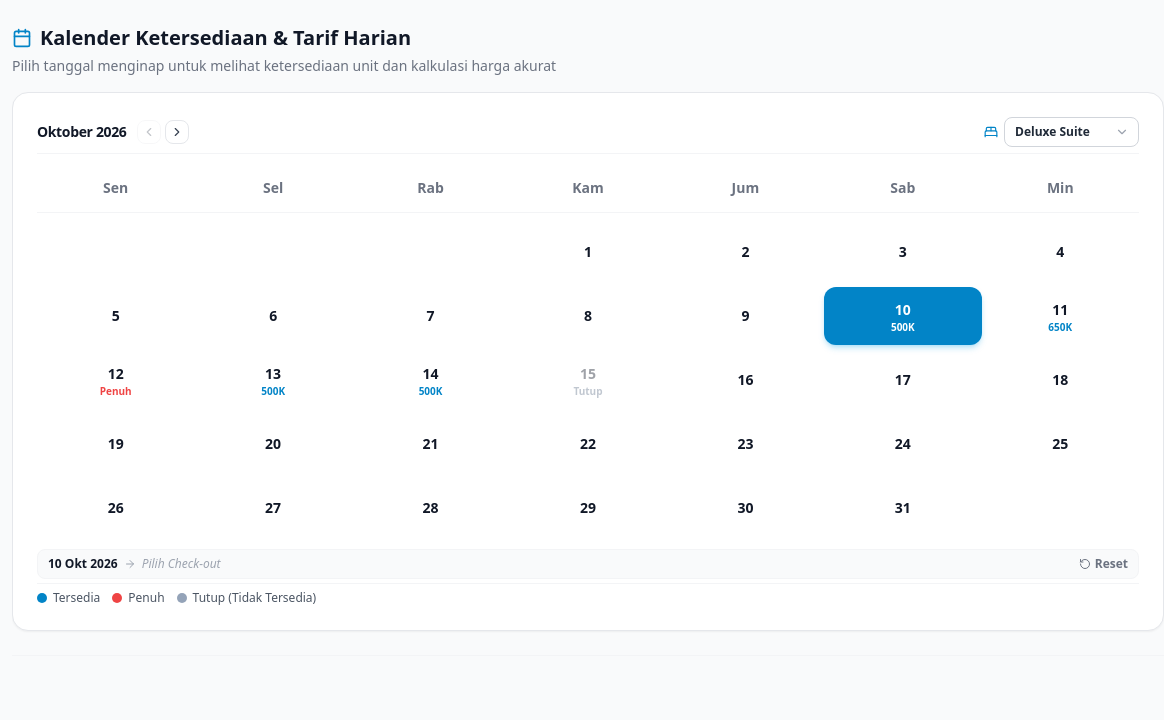
Test case: InteractivePriceCalendar Component › displays warning when selecting range that includes Sold Out dates (AC-004)
This screenshot has width=1164, height=720.
expect the text "Penuh" is shown: met, box [37,351,194,409]
Click the text "14": (430, 380) [352,351,509,409]
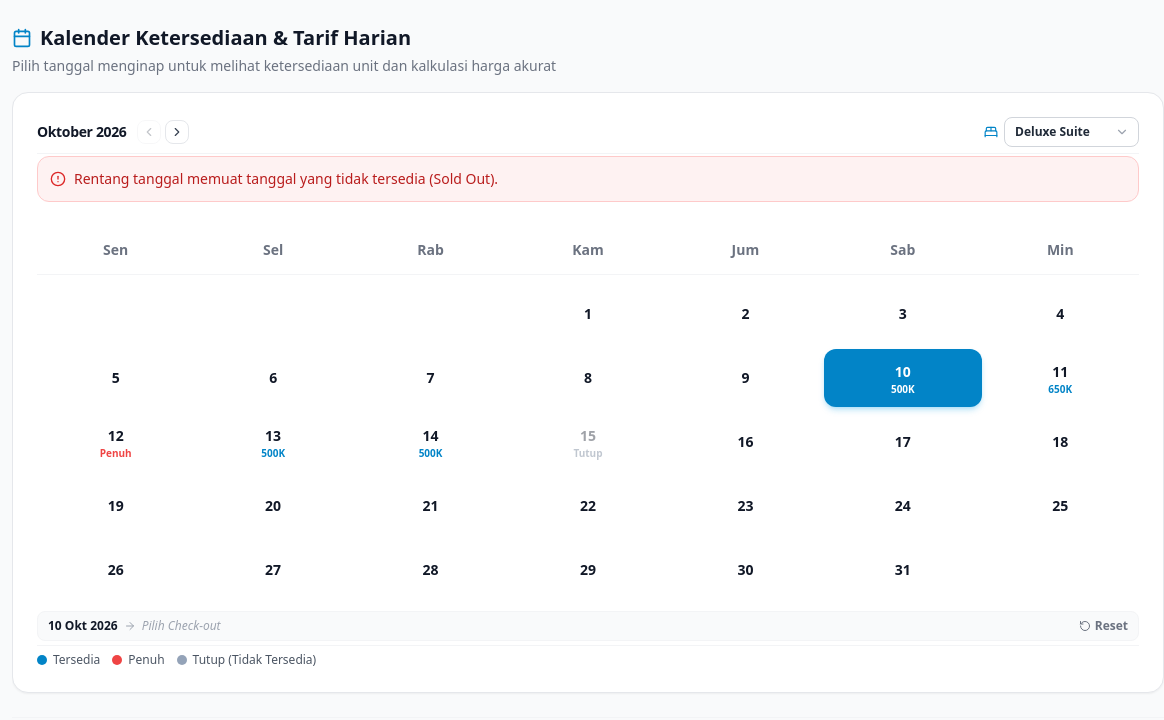
expect the text "Rentang tanggal memuat tanggal yang tidak tersedia" is shown: met, box [74,169,498,188]
